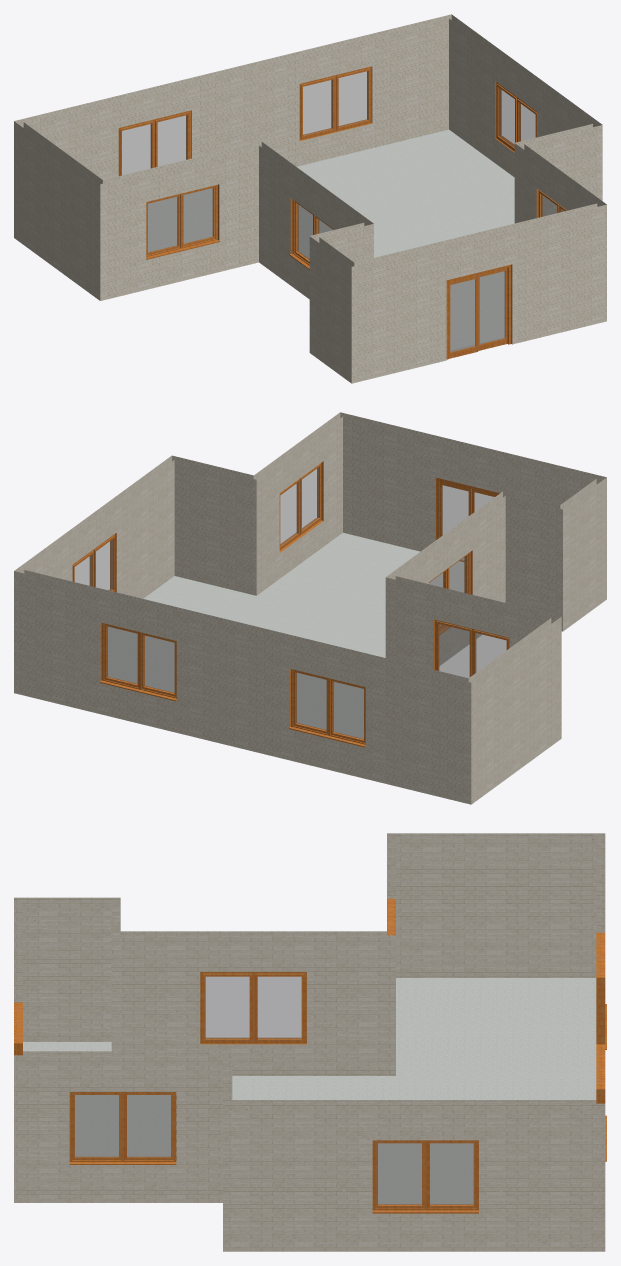
File: telhado38a.gltf
3 views of the same model, one above another, from view 1: azimuth 30°, elevation 25°; view 2: azimuth 150°, elevation 25°; view 3: azimuth 270°, elevation 25° (orthographic). The views are drawn at different scales.
Parts seen in each view (by area): view 1: root; view 2: root; view 3: root.
Part boxes in pixels (x1,y1,x2,y2): root: (14,14,606,383); root: (14,412,606,804); root: (14,833,606,1251).
Bounding box in the file's own units: 12.03 × 3.06 × 11.13.
6 materials, 3 textured.
